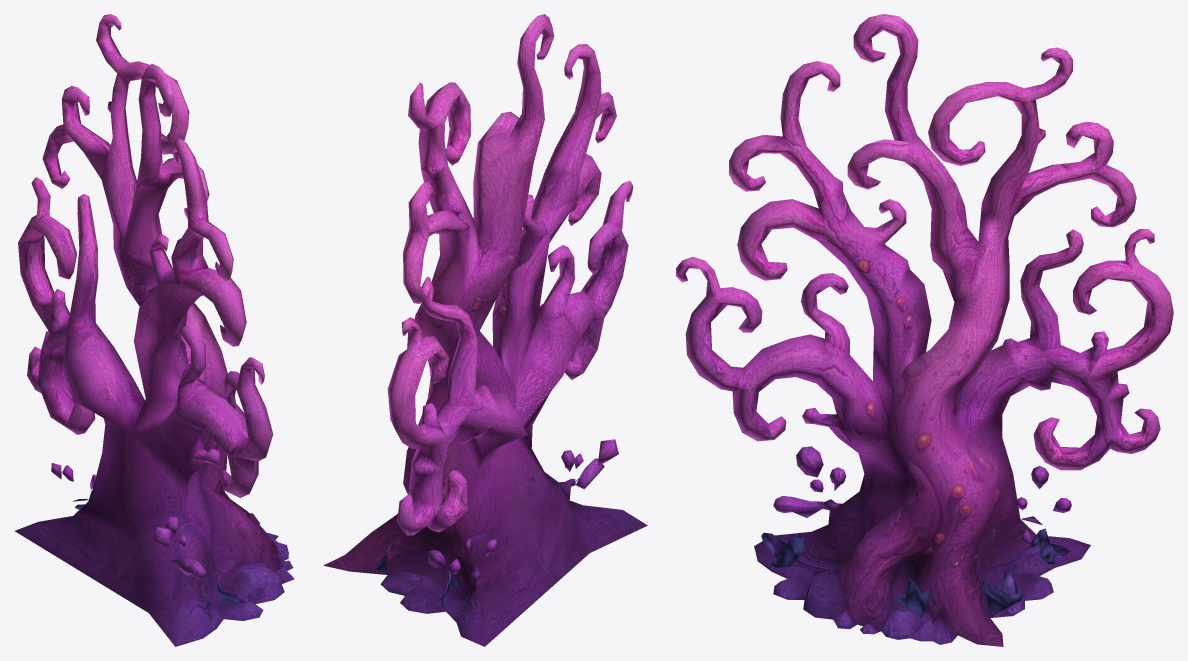
The model's file is purple_coral_alt.glb.
3 views of the same model, side by side, from view 1: azimuth 30°, elevation 25°; view 2: azimuth 150°, elevation 25°; view 3: azimuth 270°, elevation 25° (orthographic). The views are drawn at different scales.
Parts seen in each view (by area): view 1: tripo_node_d23a5462-4120-409e-8cc6-2ea1f4103628; view 2: tripo_node_d23a5462-4120-409e-8cc6-2ea1f4103628; view 3: tripo_node_d23a5462-4120-409e-8cc6-2ea1f4103628.
Boxes of the visible parts, bbox=[...] form: tripo_node_d23a5462-4120-409e-8cc6-2ea1f4103628: bbox=[15, 14, 294, 646]; tripo_node_d23a5462-4120-409e-8cc6-2ea1f4103628: bbox=[323, 14, 647, 646]; tripo_node_d23a5462-4120-409e-8cc6-2ea1f4103628: bbox=[676, 14, 1173, 646].
Size of the model in its own units: 0.3926 by 0.998 by 0.8105.
Materials: 1 (1 with a texture image).
